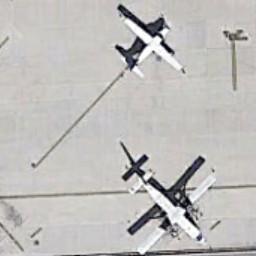Airplane: (104, 157, 221, 256), (103, 5, 203, 103)
